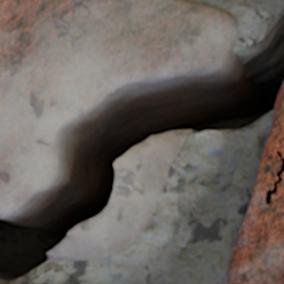brick: (228, 89, 283, 283)
broken_brick: (0, 0, 237, 216), (49, 132, 187, 261)
crack: (0, 0, 283, 283), (264, 150, 283, 205)
